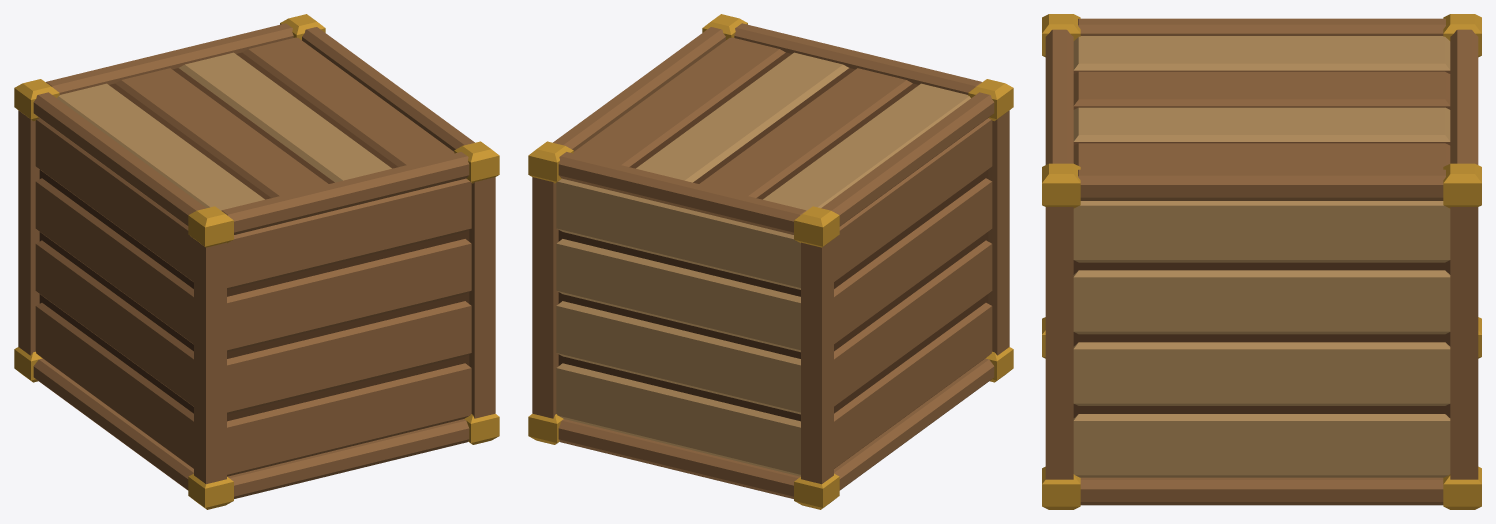
Rendered from Crate_17.glb.
The picture shows the model from 3 angles, left to right: view 1: azimuth 30°, elevation 25°; view 2: azimuth 150°, elevation 25°; view 3: azimuth 270°, elevation 25°; orthographic projection. The views are drawn at different scales.
Parts seen in each view (by area): view 1: Crate_17; view 2: Crate_17; view 3: Crate_17.
Boxes of the visible parts, <box> form: Crate_17: <box>14,14,499,509</box>; Crate_17: <box>528,14,1013,509</box>; Crate_17: <box>1042,14,1481,509</box>.
Size of the model in its own units: 2.25 by 2.12 by 2.52.
